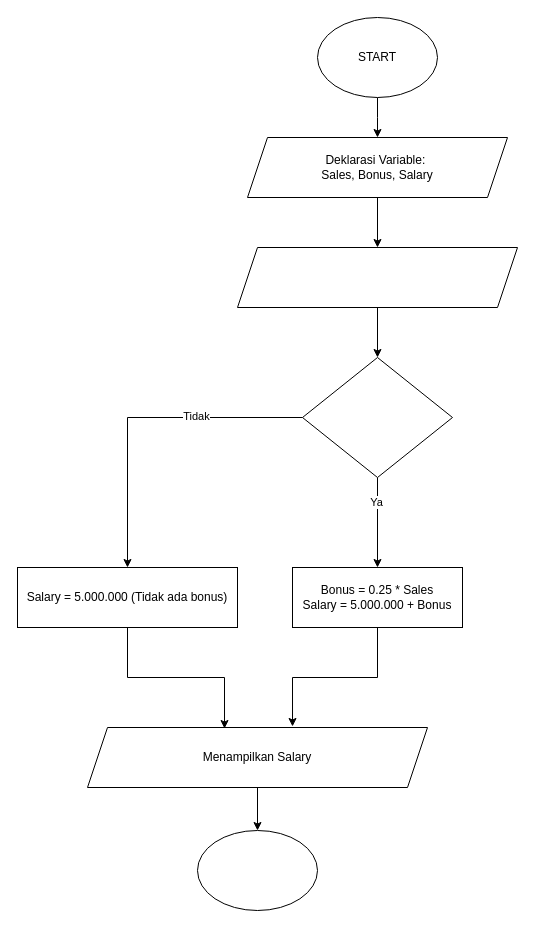
This 535x928 diagram has some shape labels left out. The shapes that lost their labels are listed below. From the top down, each one's box as (x1, y1, x2, y2) in pixels, then its label:
(236, 246, 518, 308): Masukan Sales (Pencapaian Penjualan)
(302, 356, 452, 478): Sales > 1000
(196, 830, 318, 910): END
